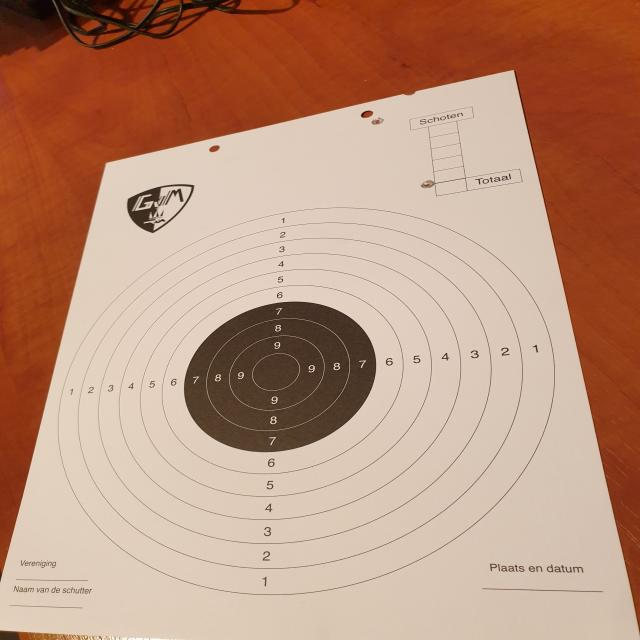0: (420, 180, 435, 189), (370, 117, 384, 125)
Target: (56, 207, 556, 596)
black_contour: (184, 300, 377, 452)
